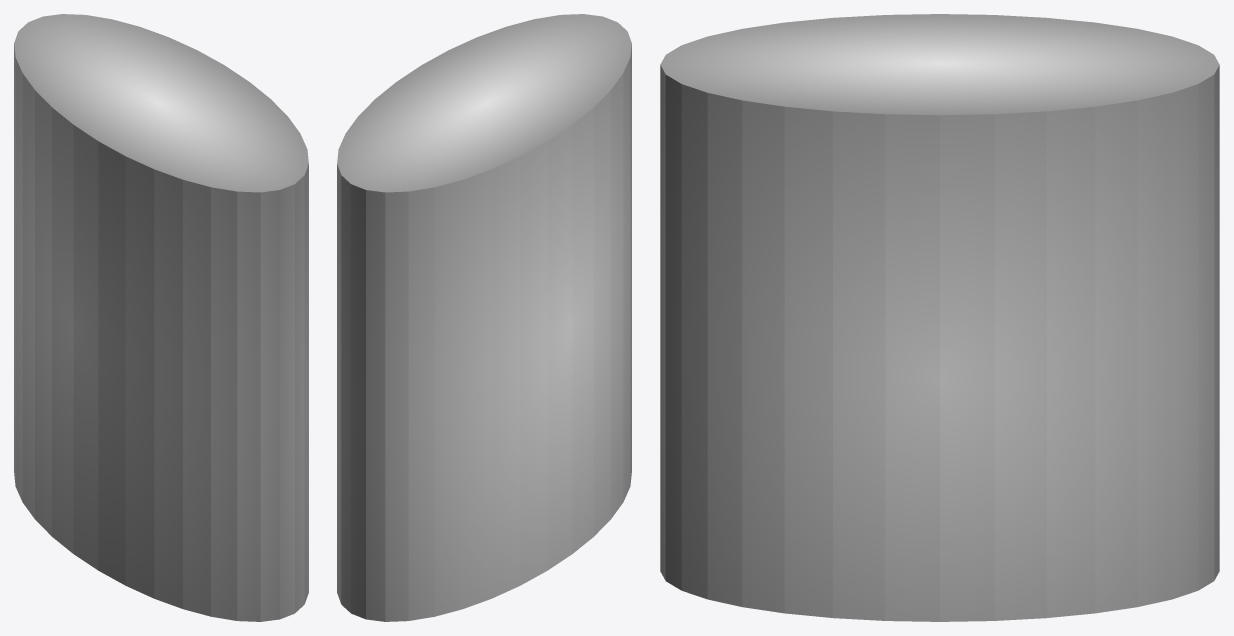
The model's file is Demo.fbx.
3 renders of one model, left to right at view 1: azimuth 30°, elevation 25°; view 2: azimuth 150°, elevation 25°; view 3: azimuth 270°, elevation 25°, orthographic. The views are drawn at different scales.
Visible parts, largest first — view 1: SingleCrochet; view 2: SingleCrochet; view 3: SingleCrochet.
Boxes of the visible parts, x1,y1,x2,y2 form: SingleCrochet: (14,14,308,621); SingleCrochet: (337,14,631,621); SingleCrochet: (660,14,1219,621).
Size of the model in its own units: 60 by 140 by 140.
